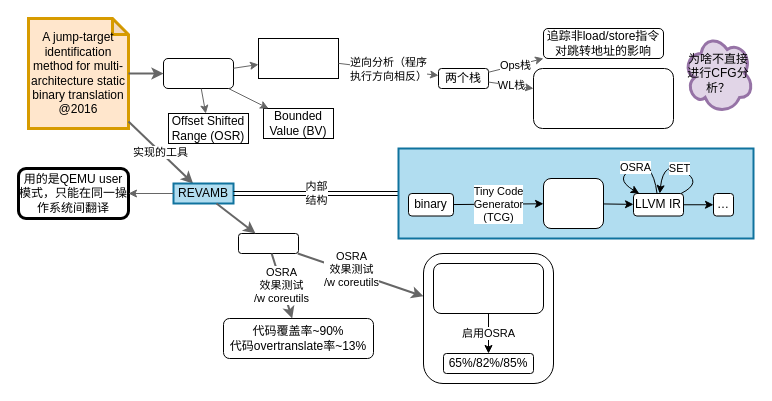
This 772x401 diagram has some shape labels left out. The box of each missing label's shape, as (x1, y1, x2, y2) in pixels:
MIPS/ARM/x86-64 通过率： 51%/57%/85%: (432, 262, 544, 314)
QEMU IR (tiny code): (542, 178, 604, 228)
Simple Expression Tracker (SET): (258, 38, 338, 78)
实验结果: (238, 232, 298, 254)
追踪load指令的位置，文中记录的是高度。因为load可受多个store的影响因此产生数据流的分支。: (532, 68, 674, 128)
间接跳转的目标问题: (162, 58, 234, 88)
